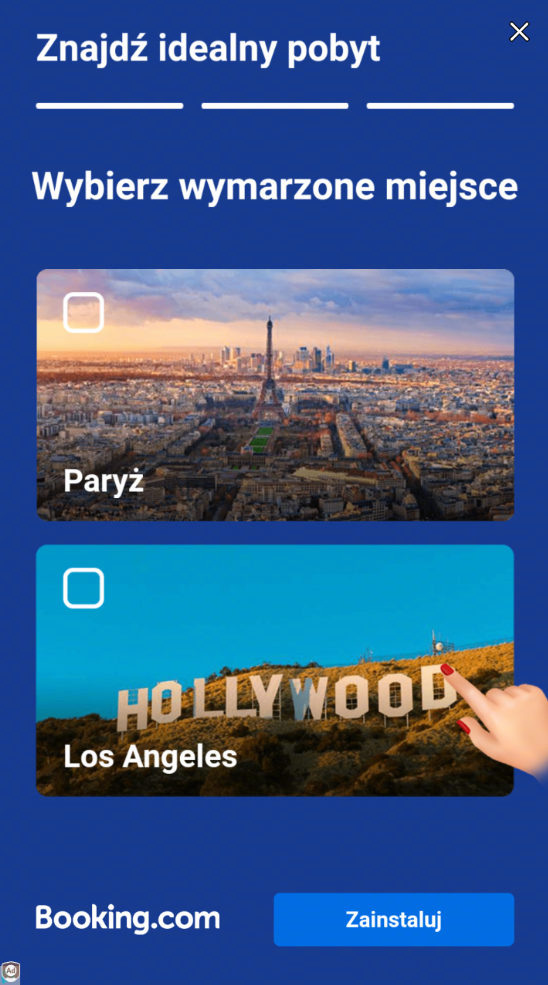close_button: (504, 16, 533, 46)
